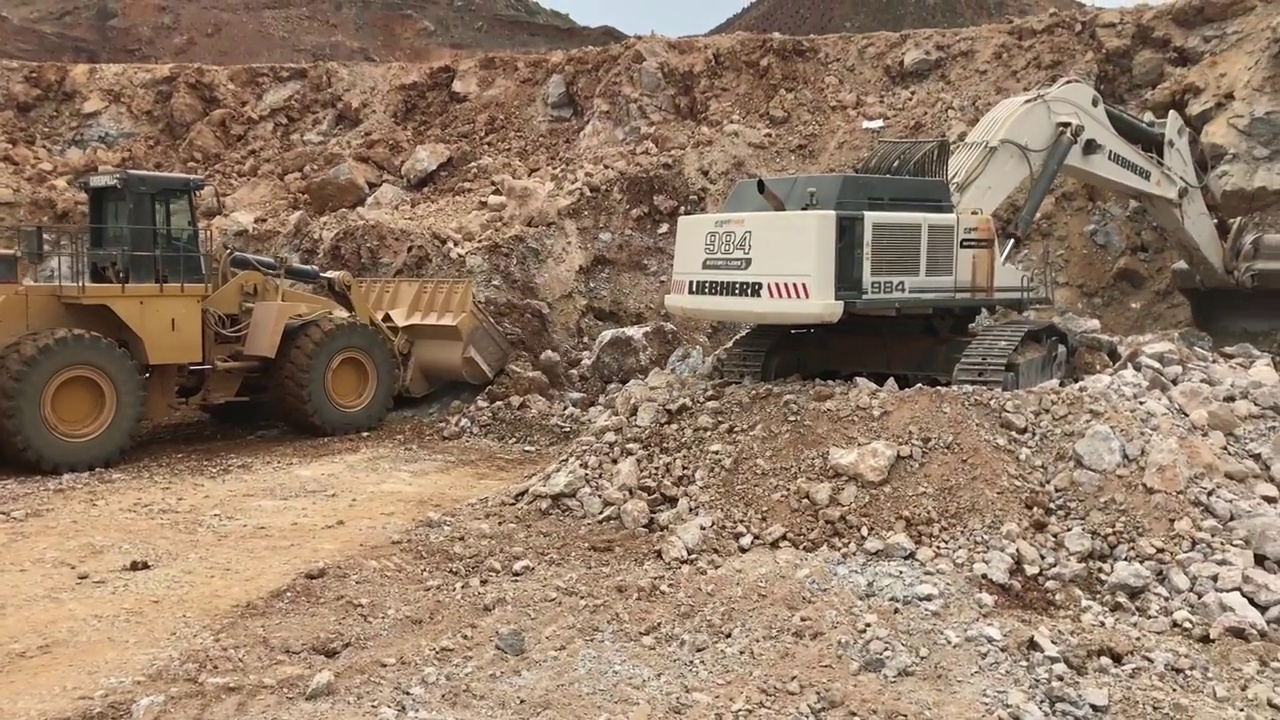excavator: (663, 78, 1280, 395)
wheel loader: (5, 169, 526, 472)
